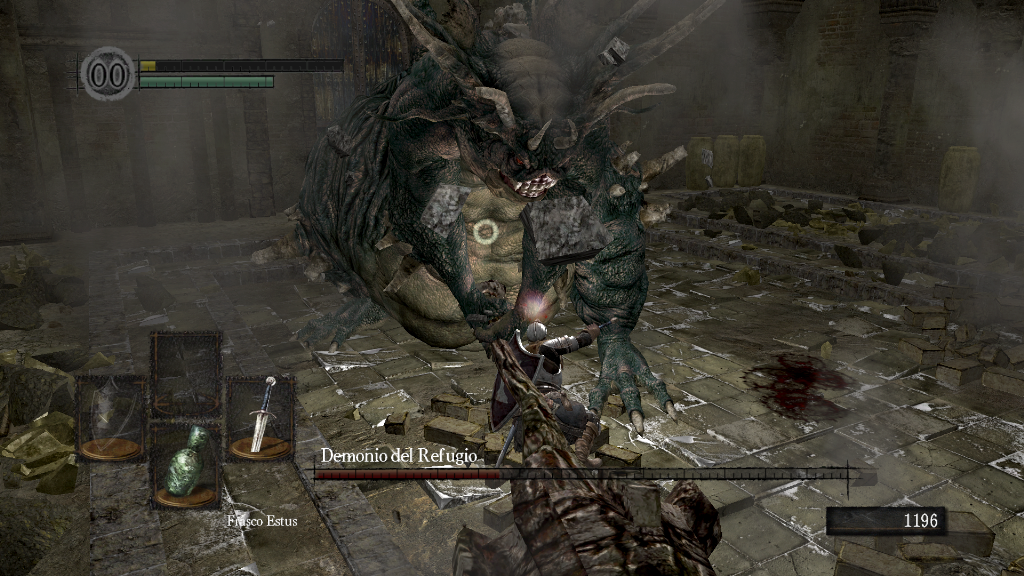asylumDemon: (288, 1, 738, 428)
bossHP: (314, 469, 847, 479)
health: (138, 58, 343, 71)
humanity: (80, 45, 136, 102)
player: (493, 318, 599, 467)
souls: (825, 506, 945, 536)
stamina: (138, 74, 274, 88)
